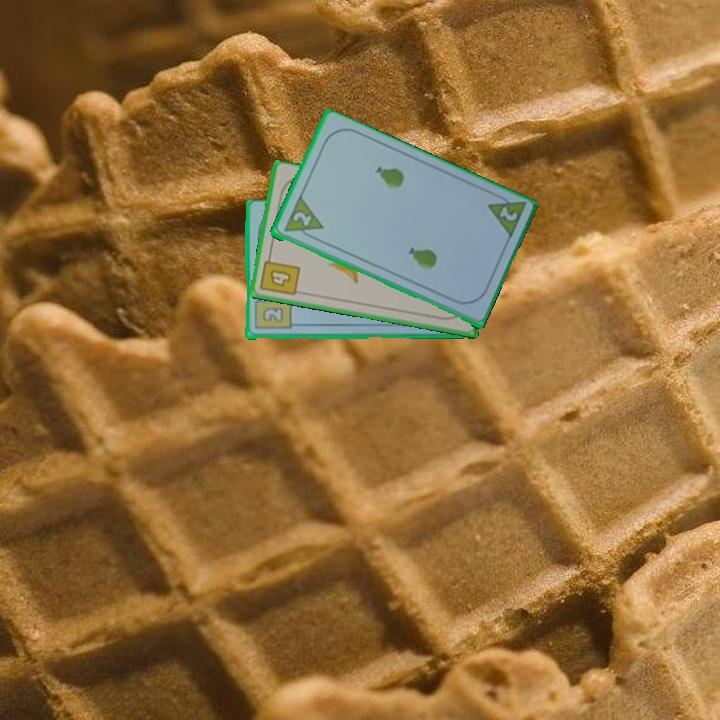2b: (251, 290, 293, 333)
2p: (289, 208, 314, 230), (495, 203, 520, 224)
4b: (257, 250, 303, 299)
